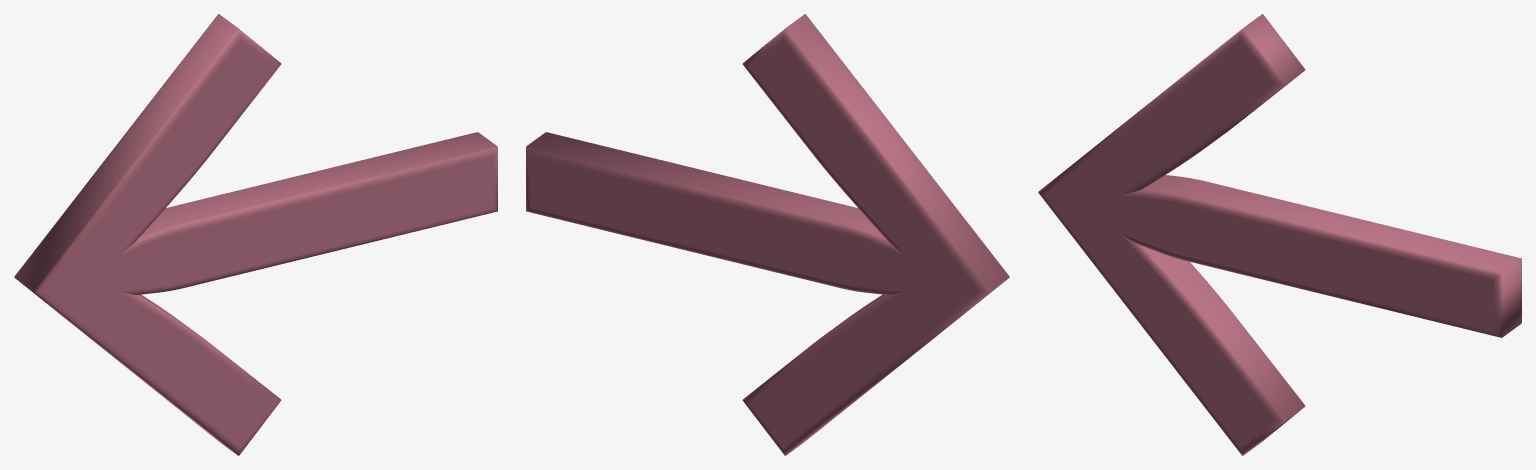
The model's file is Arrow2.obj.
3 views of the same model, side by side, from view 1: azimuth 30°, elevation 25°; view 2: azimuth 150°, elevation 25°; view 3: azimuth 330°, elevation 25° (orthographic).
Visible parts, largest first — view 1: テキスト.012; view 2: テキスト.012; view 3: テキスト.012.
Boxes of the visible parts, left/top/right/bottom form: テキスト.012: left=14, top=14, right=497, bottom=455; テキスト.012: left=526, top=14, right=1009, bottom=455; テキスト.012: left=1038, top=14, right=1521, bottom=455.
Bounding box in the file's own units: 1.12 × 0.9904 × 0.1.
